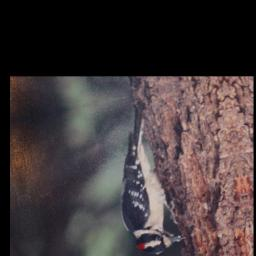Woodpecker: (101, 99, 189, 256)
